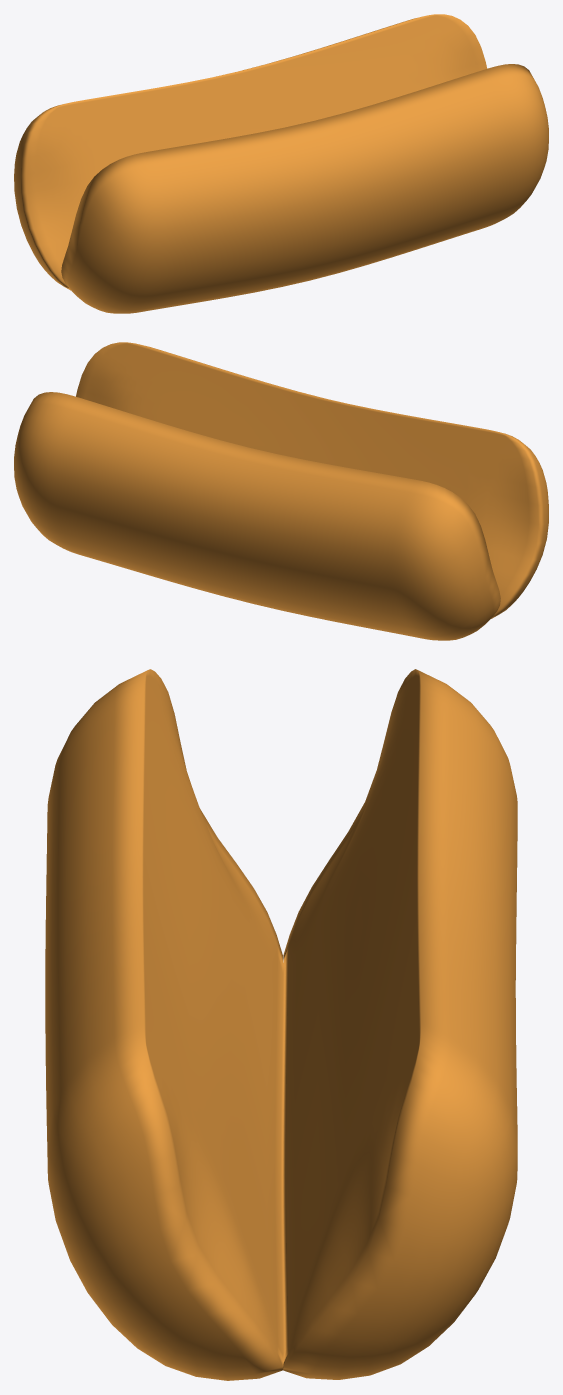
File: bun.dae
3 renders of one model, top to bottom at view 1: azimuth 30°, elevation 25°; view 2: azimuth 150°, elevation 25°; view 3: azimuth 270°, elevation 25°, orthographic. The views are drawn at different scales.
Parts seen in each view (by area): view 1: Bun; view 2: Bun; view 3: Bun.
Part boxes in pixels (x1,y1,x2,y2): Bun: [14, 14, 548, 313]; Bun: [14, 342, 548, 640]; Bun: [45, 669, 517, 1380].
Bounding box in the file's own units: 5.18 × 2.27 × 1.91.
